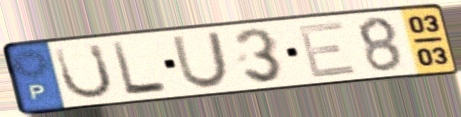3: (231, 26, 288, 86)
8: (357, 15, 406, 74)
E: (295, 19, 361, 81)
L: (108, 39, 171, 98)
U: (51, 41, 116, 102), (169, 29, 232, 91)
